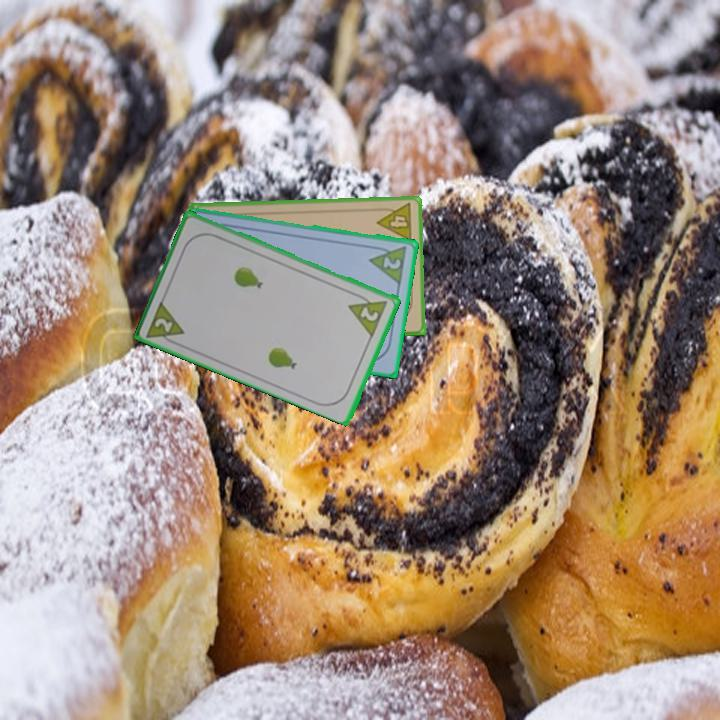2p: (143, 296, 188, 349), (345, 289, 391, 338), (379, 252, 404, 272)
4p: (373, 200, 415, 244)
